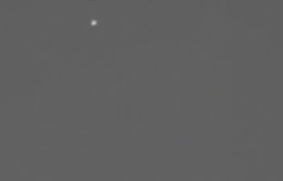Target: (92, 21, 98, 26)
